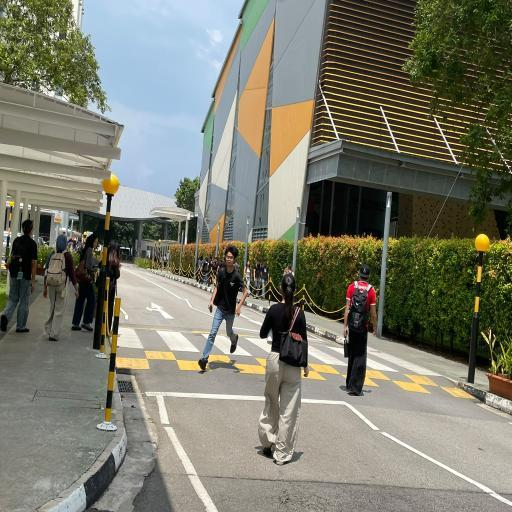person_left: (200, 237, 248, 377)
person_right: (72, 233, 100, 332)
